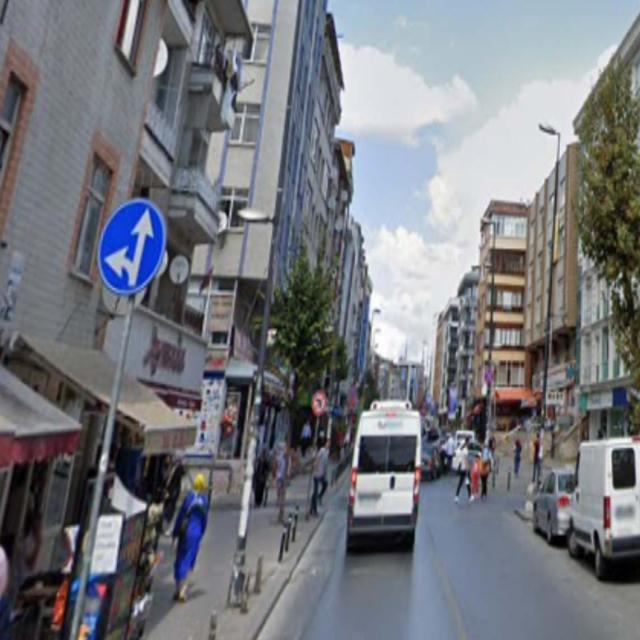ilerisol: (100, 199, 162, 293)
